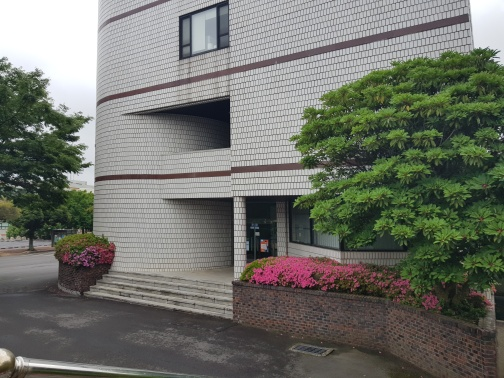Foreign Language Institute: (71, 12, 455, 340)
